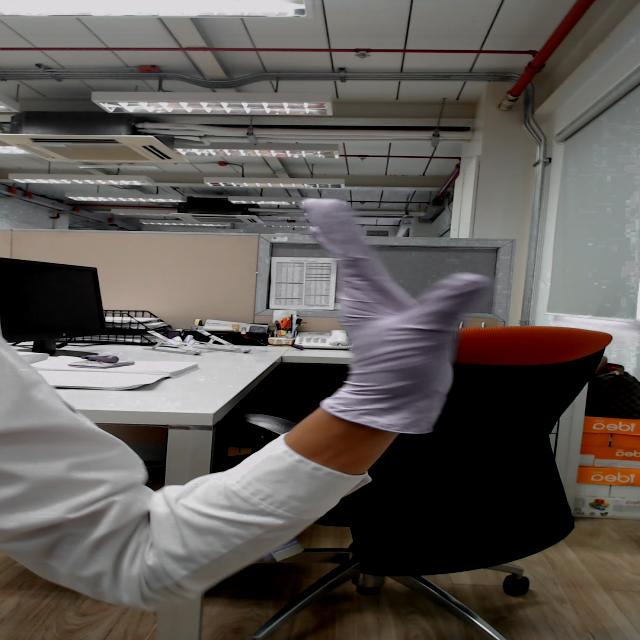glove: (237, 170, 553, 390)
